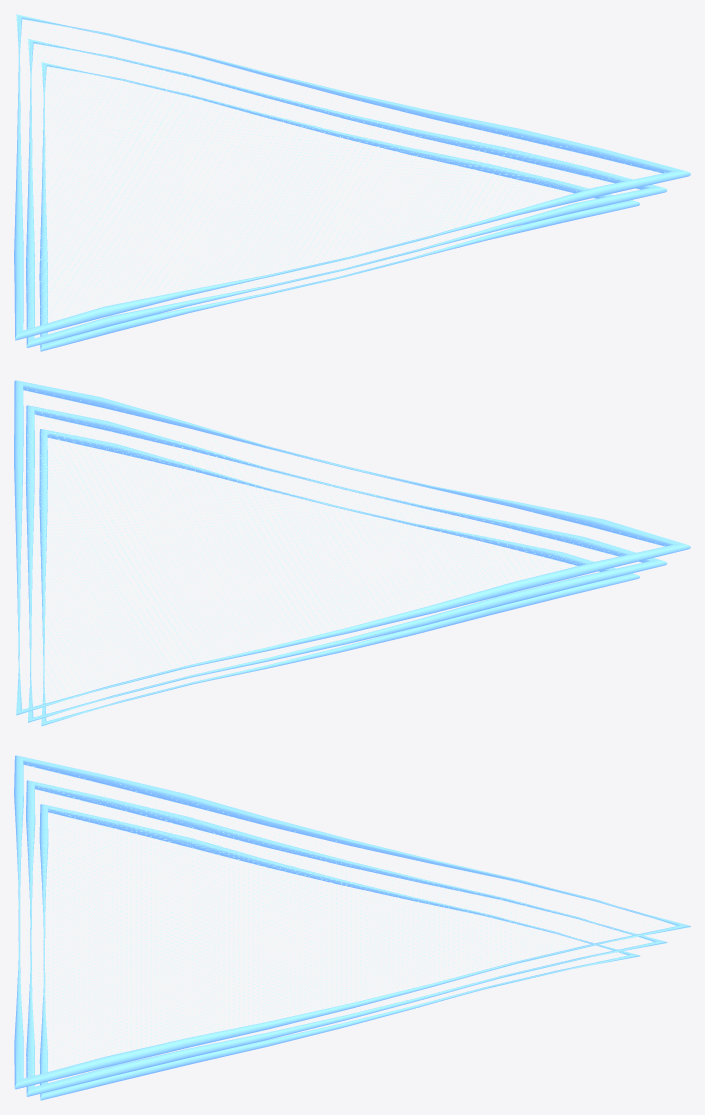
Rendered from sin_nombre2.fbx.
3 renders of one model, top to bottom at view 1: azimuth 30°, elevation 25°; view 2: azimuth 150°, elevation 25°; view 3: azimuth 270°, elevation 25°, orthographic.
Parts seen in each view (by area): view 1: Portal; view 2: Portal; view 3: Portal.
Boxes of the visible parts, bbox=[...] form: Portal: bbox=[14, 14, 690, 351]; Portal: bbox=[14, 380, 690, 726]; Portal: bbox=[14, 755, 690, 1100].
Size of the model in its own units: 344 by 21.59 by 297.
